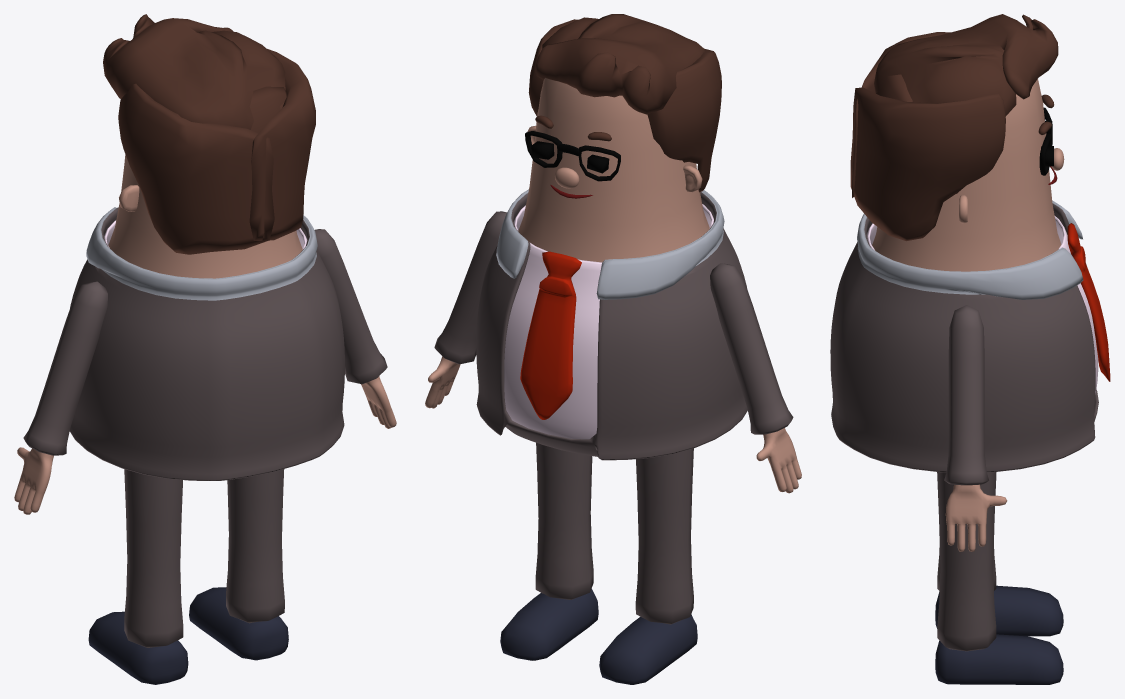
Rendered from Customer1.fbx.
3 views of the same model, side by side, from view 1: azimuth 30°, elevation 25°; view 2: azimuth 150°, elevation 25°; view 3: azimuth 270°, elevation 25° (orthographic).
Parts seen in each view (by area): view 1: Customer_1; view 2: Customer_1; view 3: Customer_1.
Boxes of the visible parts, x1=… form: Customer_1: x1=14, y1=14, x2=396, y2=684; Customer_1: x1=425, y1=14, x2=801, y2=684; Customer_1: x1=830, y1=14, x2=1110, y2=684.
Bounding box in the file's own units: 261 × 173 × 423.
